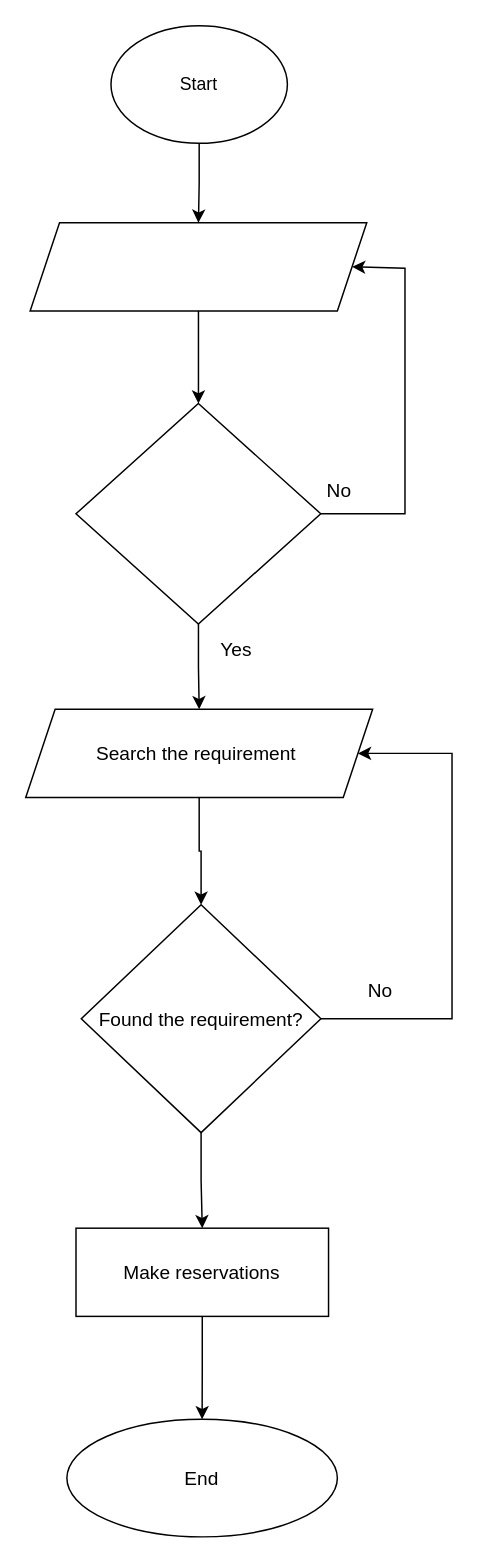
This 490x1563 diagram has some shape labels left out. The box of each missing label's shape, as (x1, y1, x2, y2) in pixels:
Enter username and password: (29, 221, 367, 311)
Is login authorized?: (75, 402, 321, 624)
